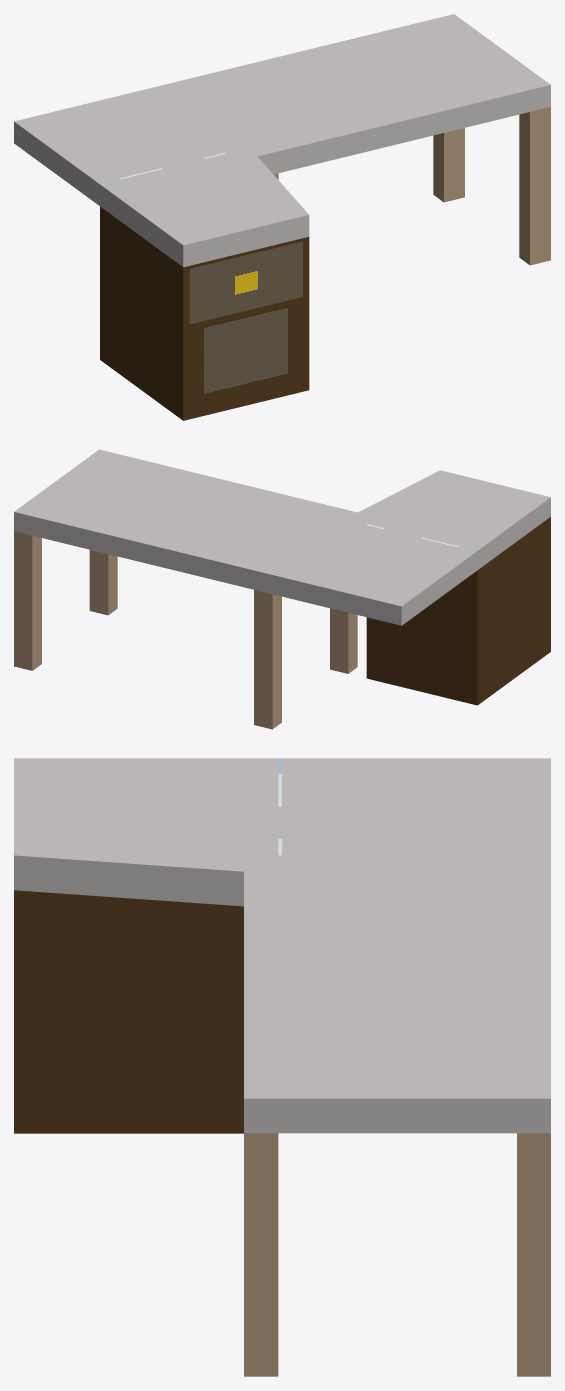
The model's file is CornerDesk.gltf.
The picture shows the model from 3 angles, top to bottom: view 1: azimuth 30°, elevation 25°; view 2: azimuth 150°, elevation 25°; view 3: azimuth 270°, elevation 25°; orthographic projection. The views are drawn at different scales.
Visible parts, largest first — view 1: desk; view 2: desk; view 3: desk.
Boxes of the visible parts, left/top/right/bottom form: desk: left=14, top=14, right=550, bottom=420; desk: left=14, top=449, right=550, bottom=729; desk: left=14, top=758, right=550, bottom=1376.
Size of the model in its own units: 1.31 by 0.5 by 0.875.
Materials: 1 (1 with a texture image).
